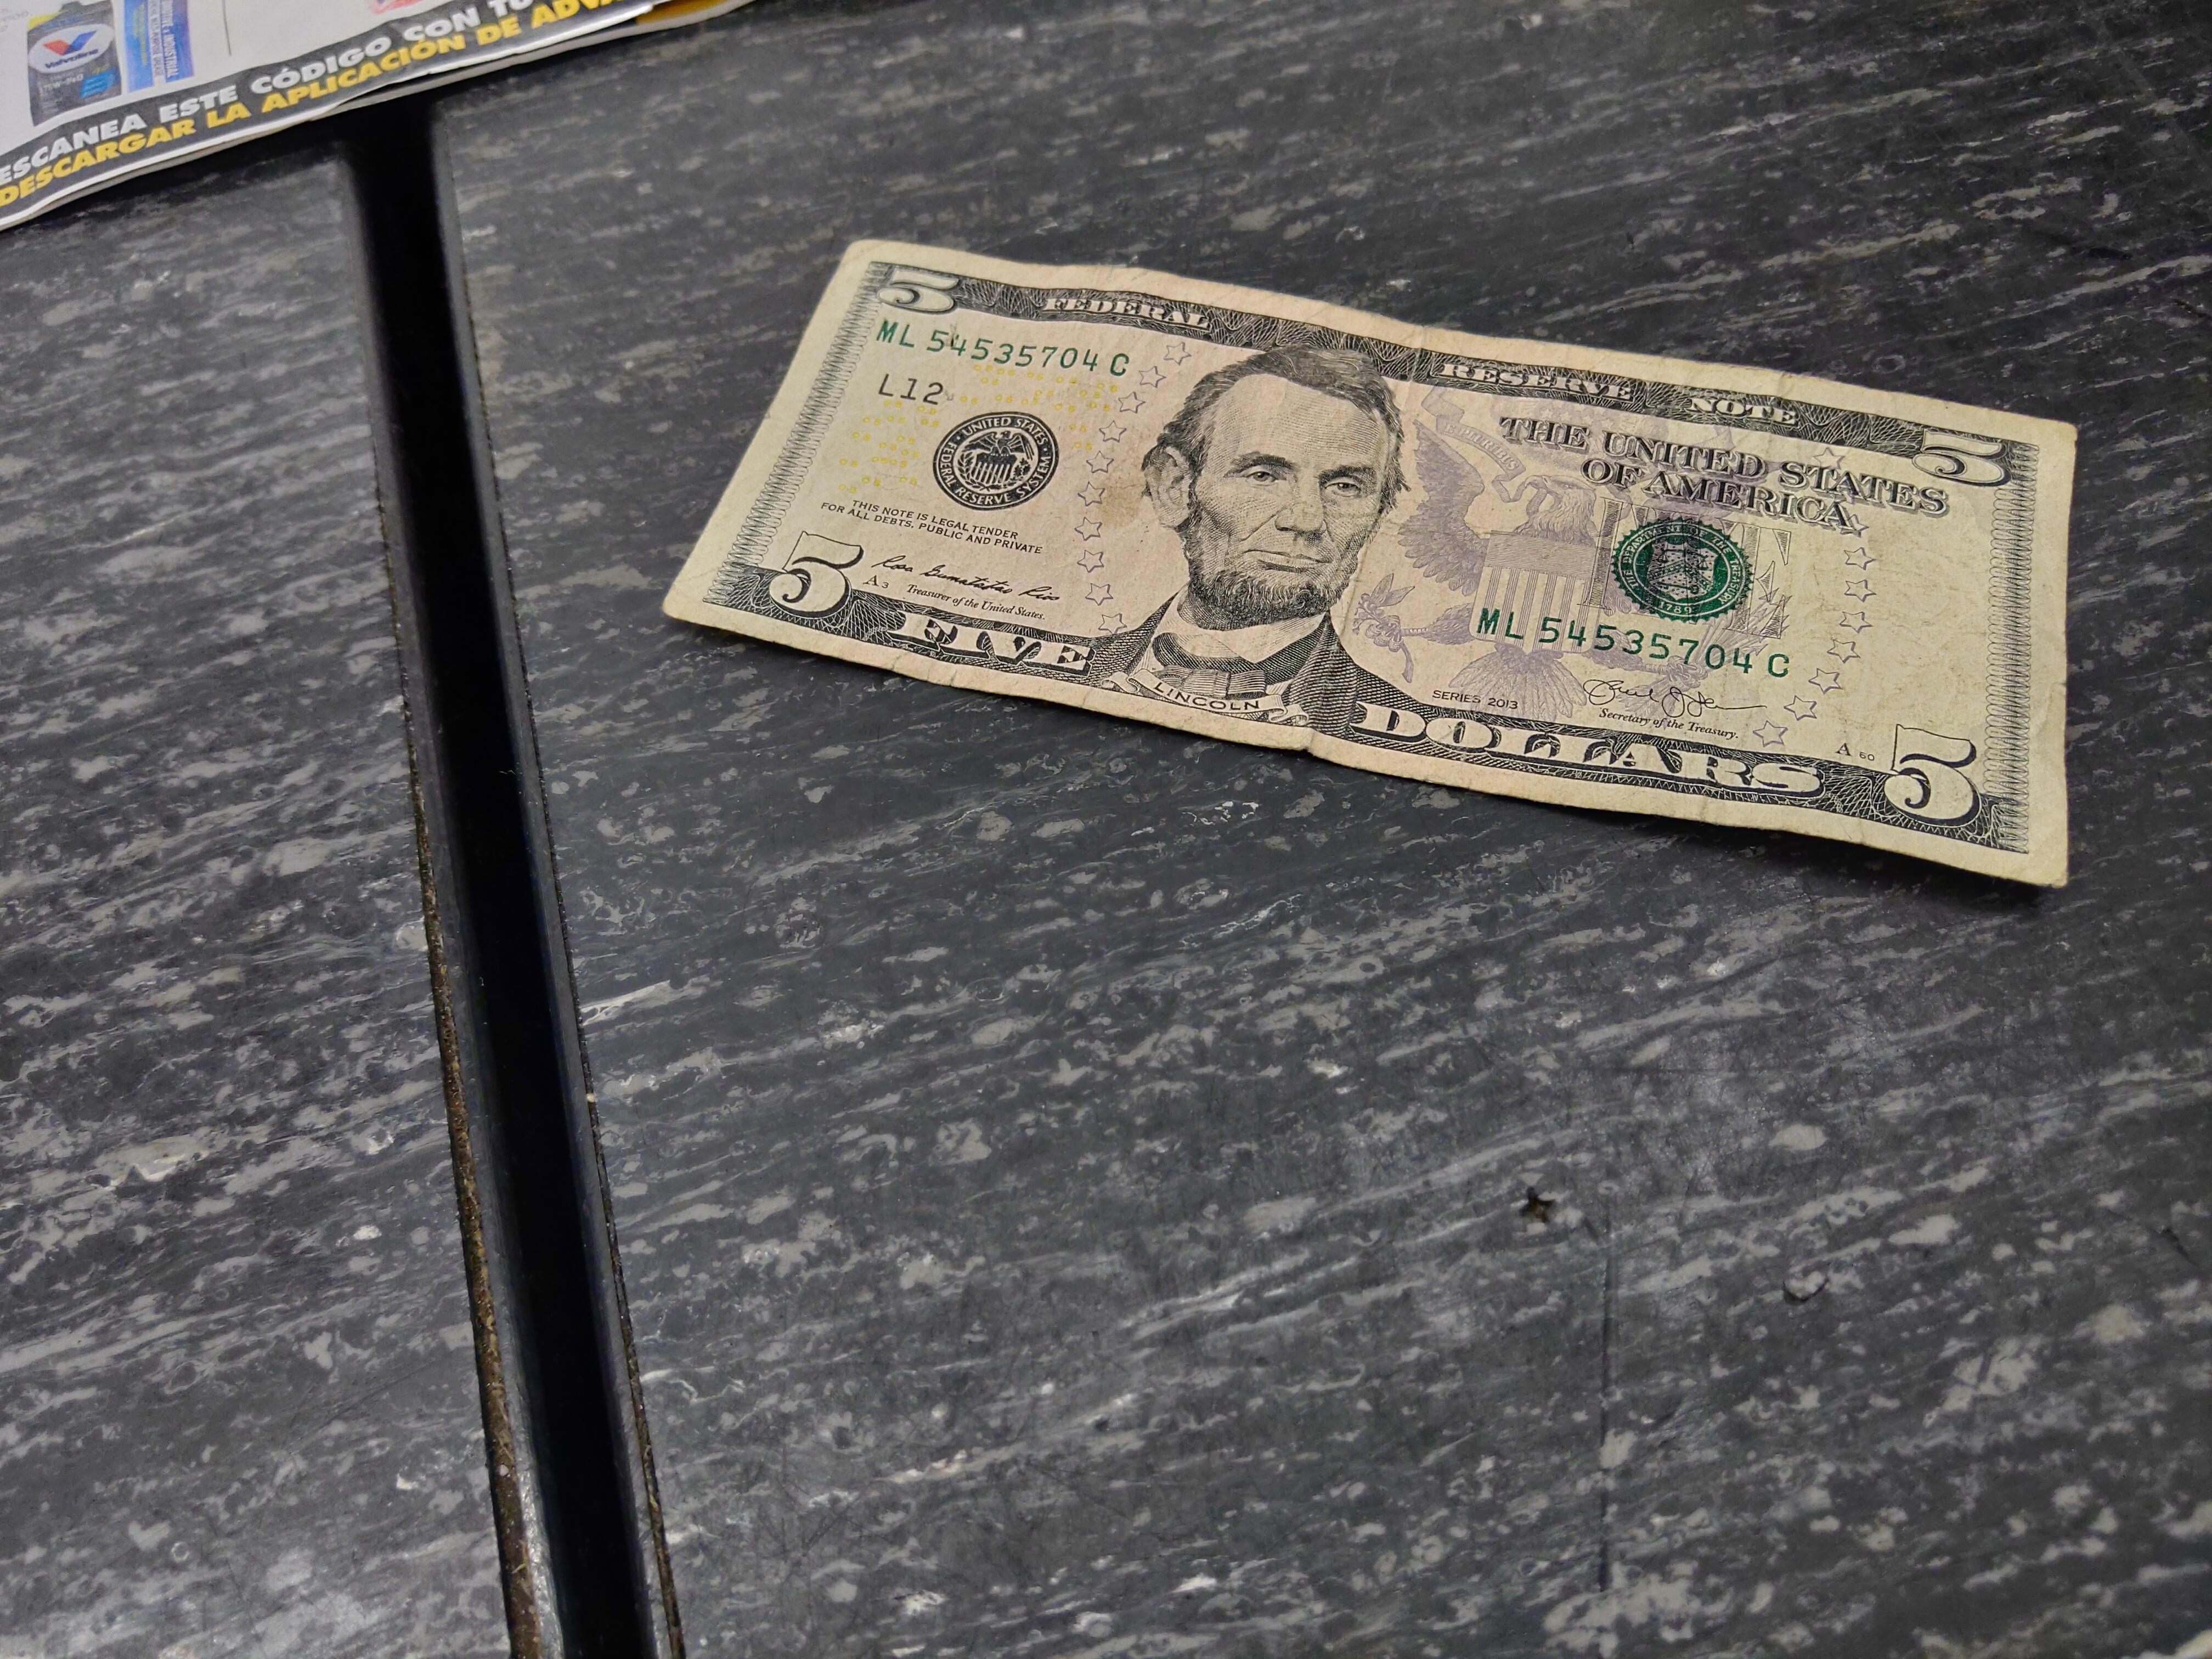FiveBill: (657, 230, 2081, 899)
